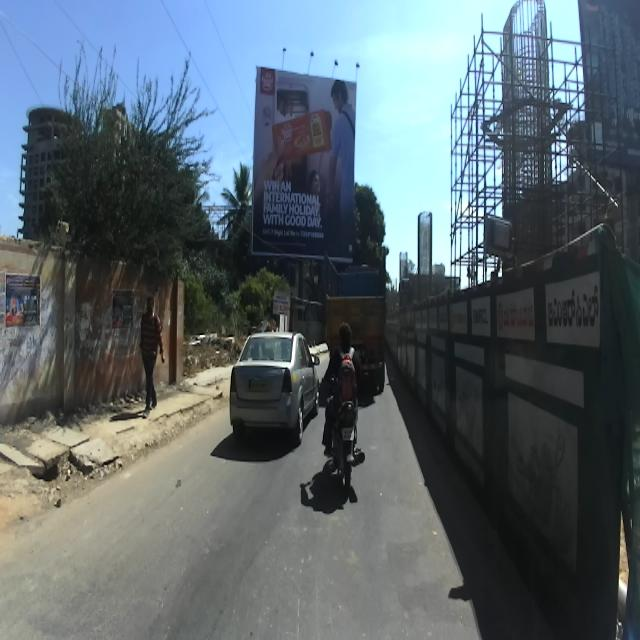car ahead at: (233, 324, 324, 454)
motorcycle ahead at: (322, 398, 368, 490)
person ahead at: (136, 292, 173, 413)
